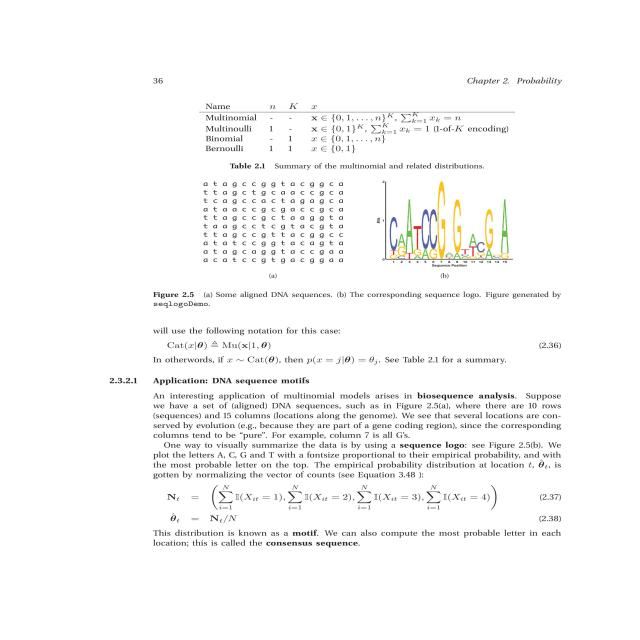diagram: (84, 90, 630, 319)
